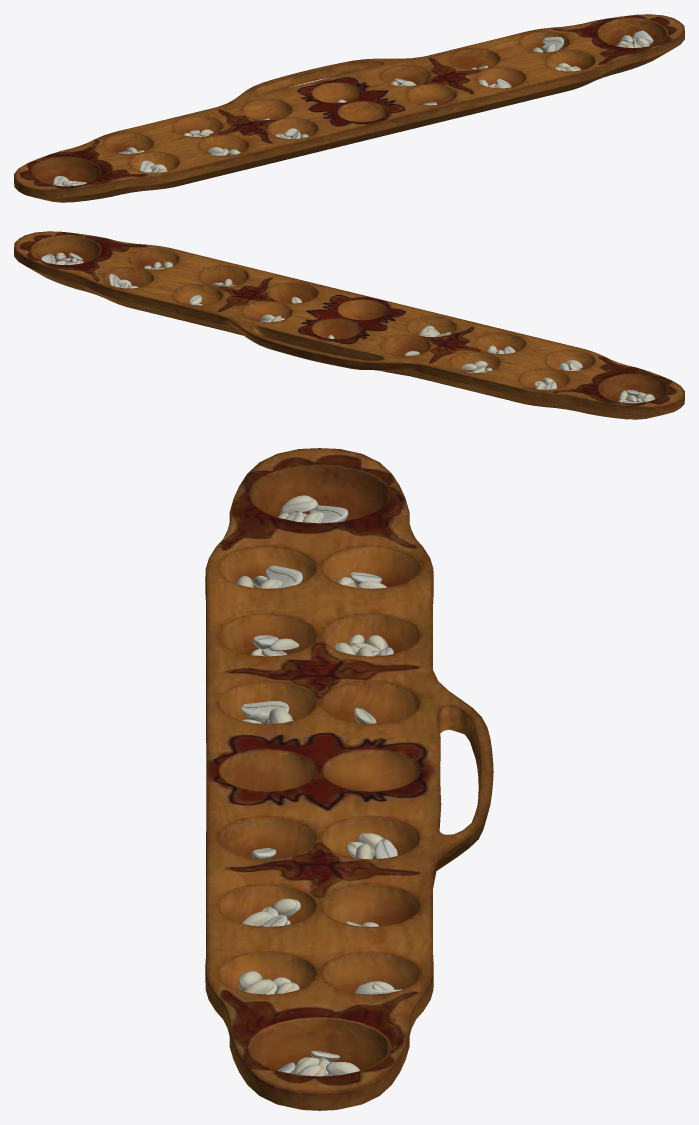
File: sungka_board_02.glb
3 views of the same model, one above another, from view 1: azimuth 30°, elevation 25°; view 2: azimuth 150°, elevation 25°; view 3: azimuth 270°, elevation 25° (orthographic). The views are drawn at different scales.
Visible parts, largest first — view 1: sungka_board_02; view 2: sungka_board_02; view 3: sungka_board_02.
Part boxes in pixels (x1,y1,x2,y2): sungka_board_02: (14, 14, 684, 202); sungka_board_02: (14, 231, 684, 419); sungka_board_02: (205, 448, 493, 1110).
Bounding box in the file's own units: 0.9317 × 0.0258 × 0.1757.
Materials: 1 (1 with a texture image).
